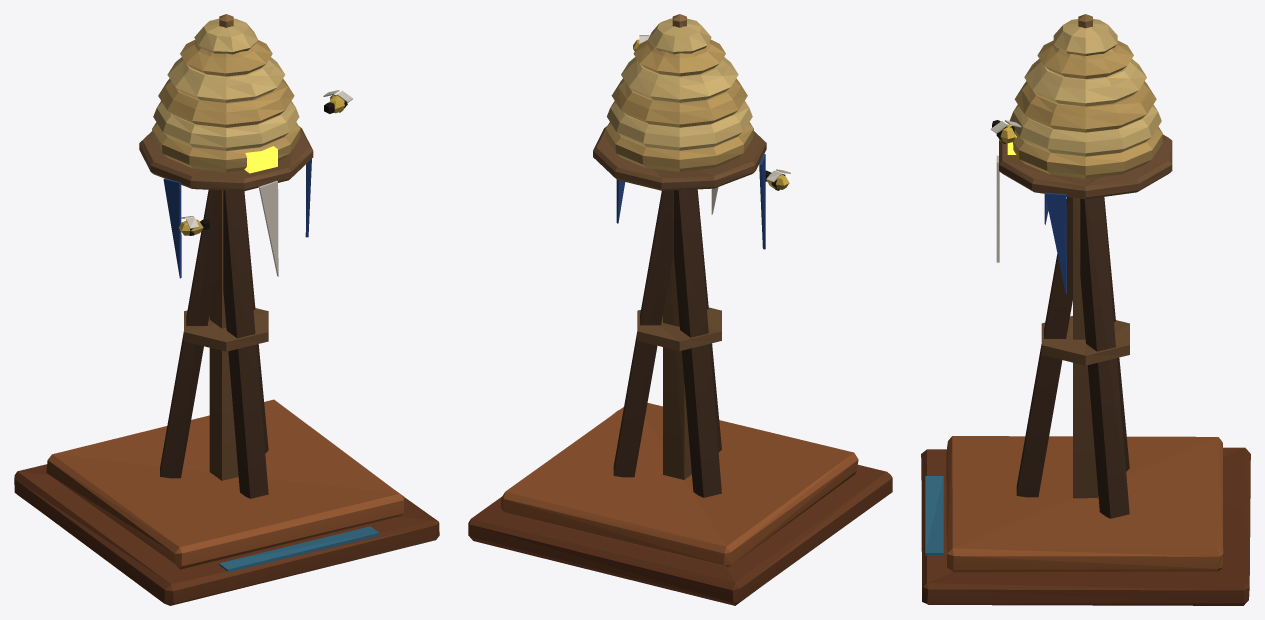
The model's file is long_hum.glb.
The picture shows the model from 3 angles, left to right: view 1: azimuth 30°, elevation 25°; view 2: azimuth 150°, elevation 25°; view 3: azimuth 270°, elevation 25°; orthographic projection. The views are drawn at different scales.
Parts seen in each view (by area): view 1: long_hum; view 2: long_hum; view 3: long_hum.
Part boxes in pixels (<box>): long_hum: <box>14,14,439,605</box>; long_hum: <box>468,14,892,605</box>; long_hum: <box>921,14,1250,605</box>.
Bounding box in the file's own units: 0.9064 × 1.59 × 0.9047.
